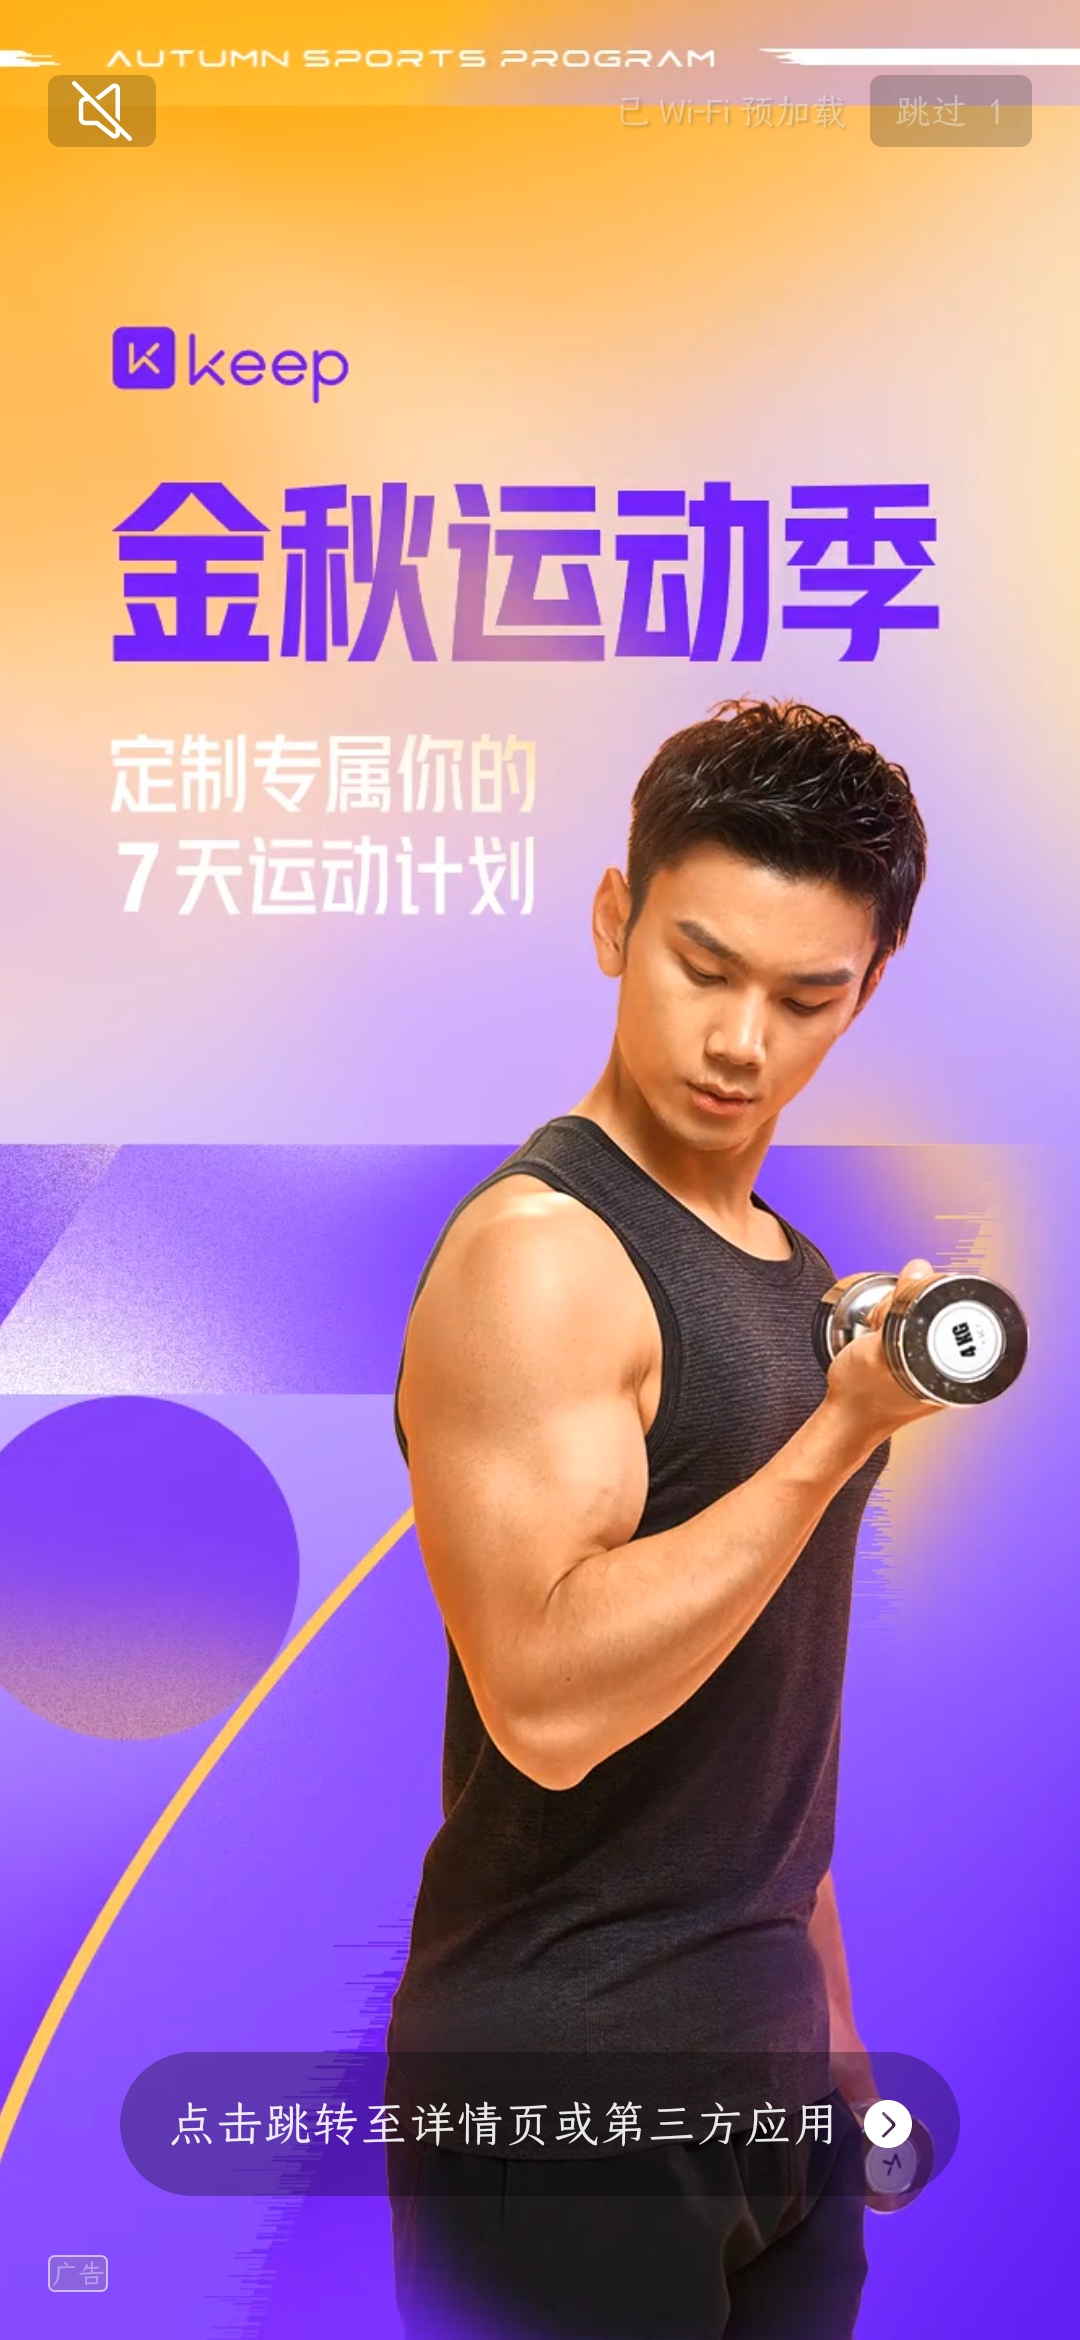skip: (882, 76, 1026, 145)
